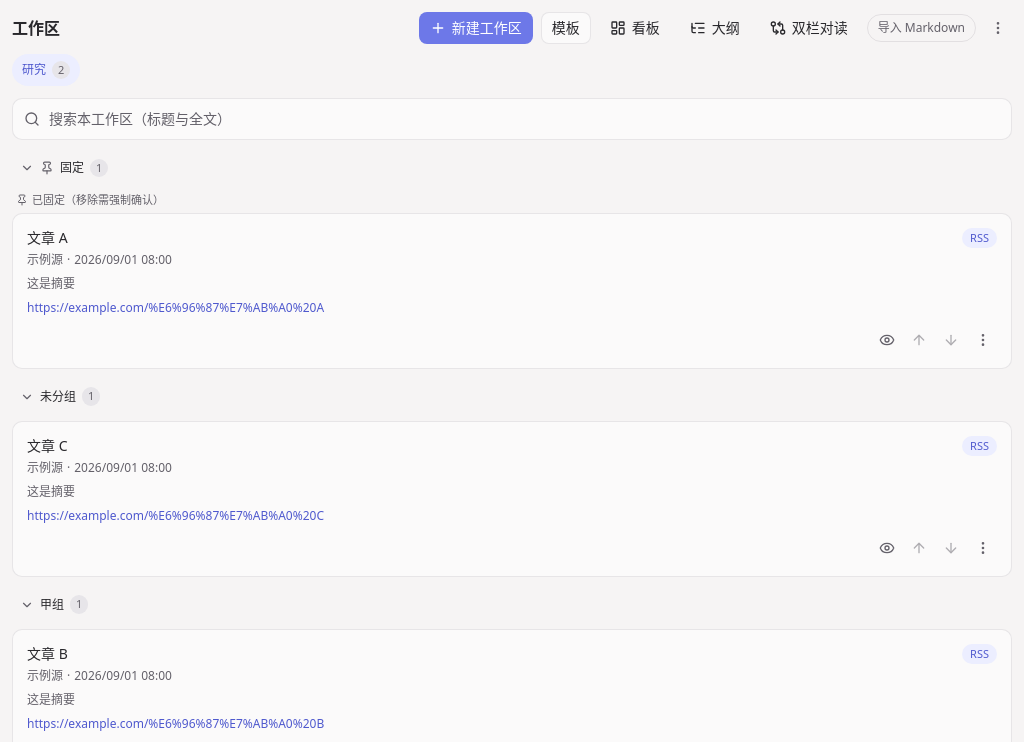
Test: N101 分组视图 › 折叠分组：aria-expanded 切换 + 状态写本机 localStorage（设备本地）
Click the button with test id "workspace-group-toggle-甲组" at point(27, 604), box [12,588,1012,620]
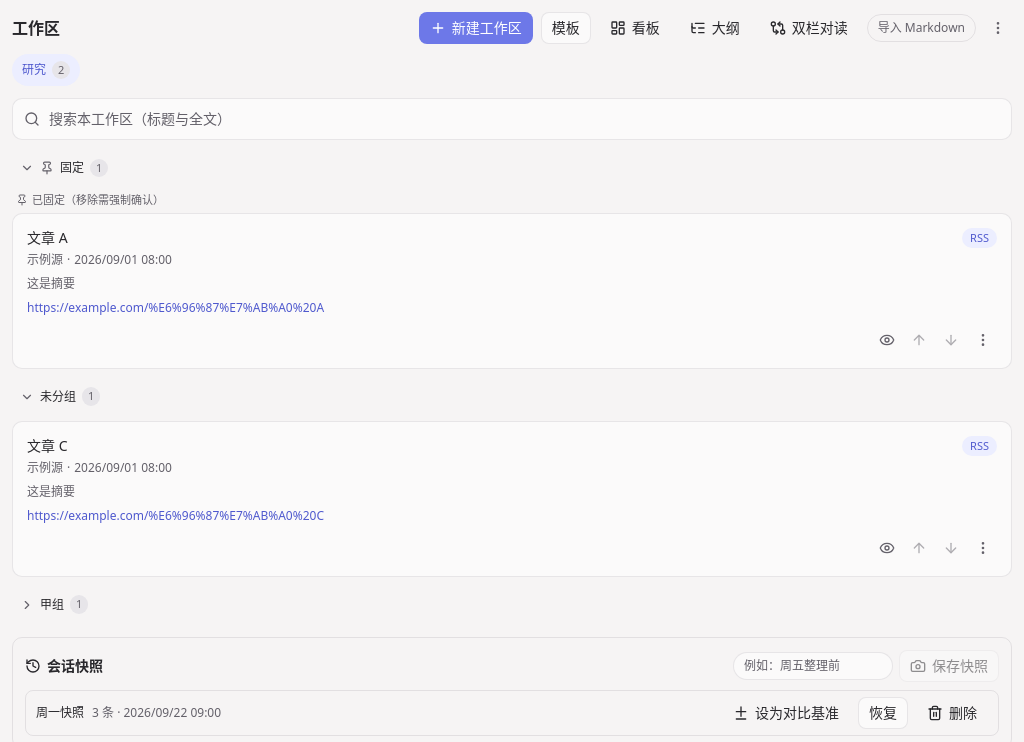
Check: the button with test id "workspace-group-toggle-甲组" is collapsed, box [12,588,1012,620]
Check: the button "文章 B" is gone
